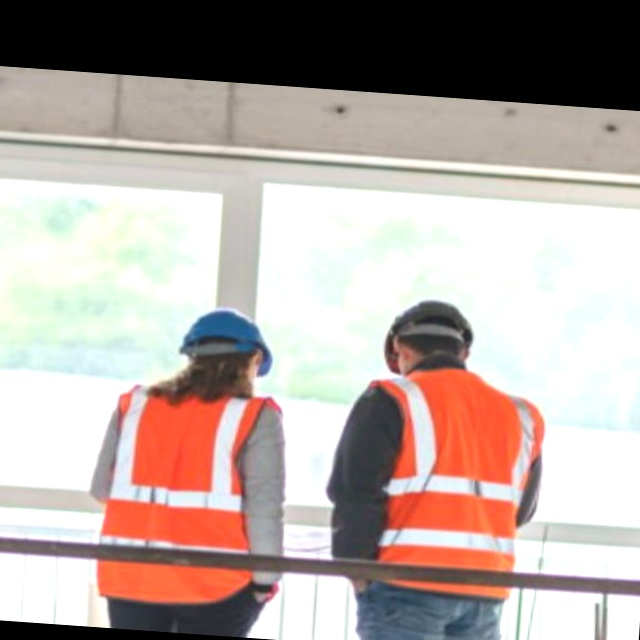Con_Chaleco: (351, 365, 547, 601), (95, 378, 296, 601)
